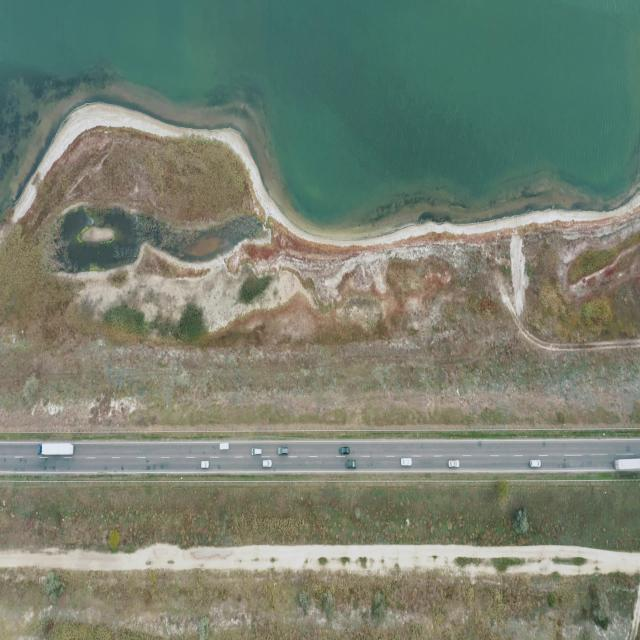vehicle: (37, 442, 74, 456), (614, 457, 640, 470), (530, 460, 541, 468), (448, 460, 459, 468), (401, 458, 412, 466), (200, 460, 210, 468), (219, 442, 229, 450), (340, 446, 350, 454), (252, 447, 262, 455), (346, 460, 356, 468), (262, 459, 272, 467), (278, 446, 288, 454)
